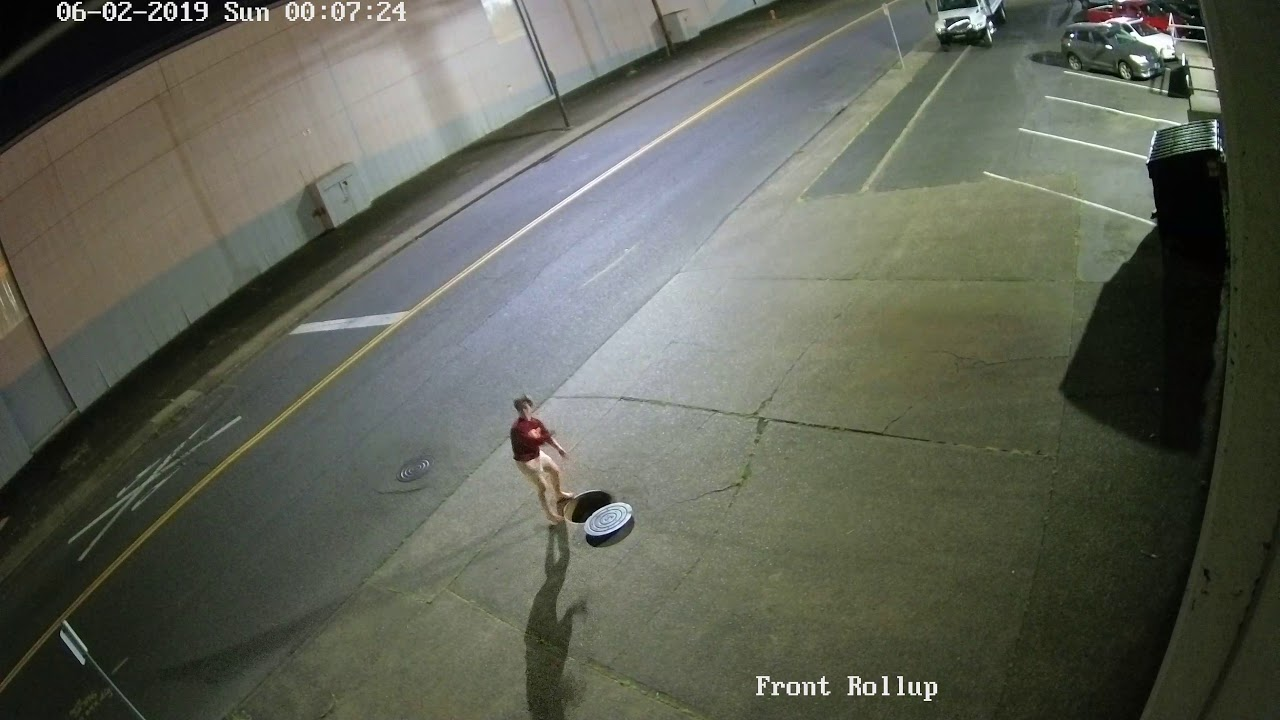Person: (494, 390, 588, 536)
